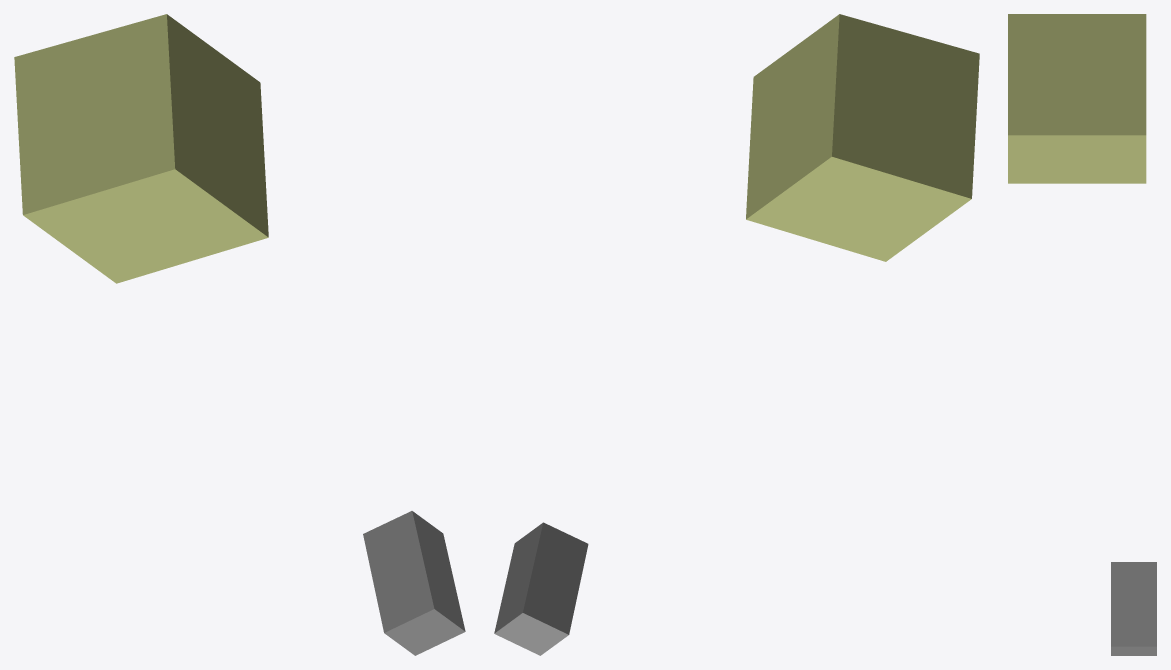
3 renders of one model, left to right at view 1: azimuth 30°, elevation 25°; view 2: azimuth 150°, elevation 25°; view 3: azimuth 270°, elevation 25°, orthographic. The views are drawn at different scales.
Parts seen in each view (by area): view 1: 0_1_2_0_1_3_0_3_3; view 2: 0_1_2_0_1_3_0_3_3; view 3: 0_1_2_0_1_3_0_3_3.
Boxes of the visible parts, x1,y1,x2,y2 form: 0_1_2_0_1_3_0_3_3: (14,14,465,655); 0_1_2_0_1_3_0_3_3: (494,14,979,655); 0_1_2_0_1_3_0_3_3: (1008,14,1156,655).
Bounding box in the file's own units: 23.72 × 36.03 × 9.7.
